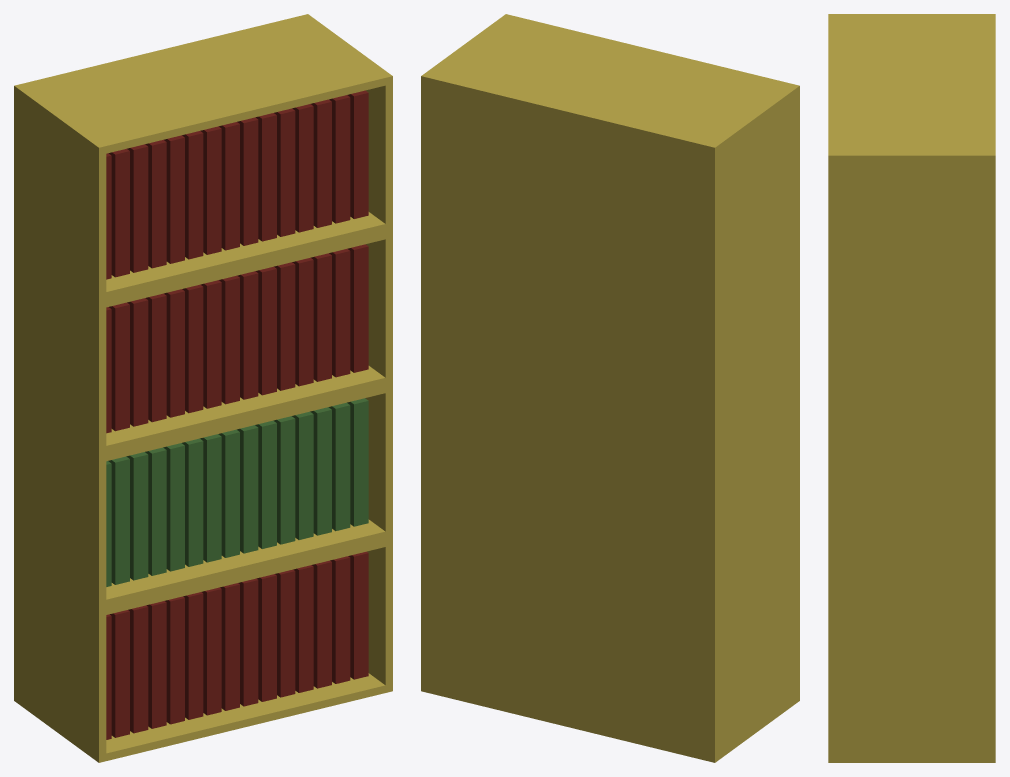
The model's file is bookshelf_full.glb.
3 views of the same model, side by side, from view 1: azimuth 30°, elevation 25°; view 2: azimuth 150°, elevation 25°; view 3: azimuth 270°, elevation 25° (orthographic).
Parts seen in each view (by area): view 1: Cube.002; view 2: Cube.002; view 3: Cube.002.
Boxes of the visible parts, <box> form: Cube.002: <box>14,14,392,762</box>; Cube.002: <box>421,14,799,762</box>; Cube.002: <box>828,14,995,762</box>.
Bounding box in the file's own units: 2 × 4 × 1.
